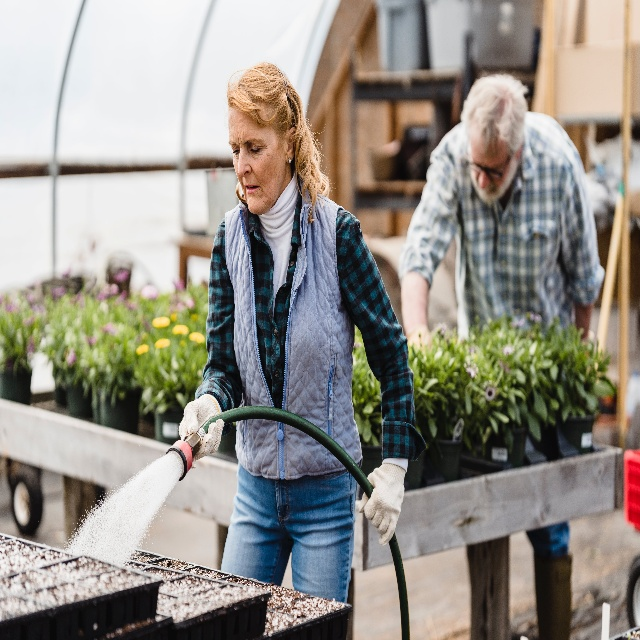Gafas: (467, 147, 514, 182)
Guantes: (358, 461, 407, 547), (175, 391, 224, 459)
